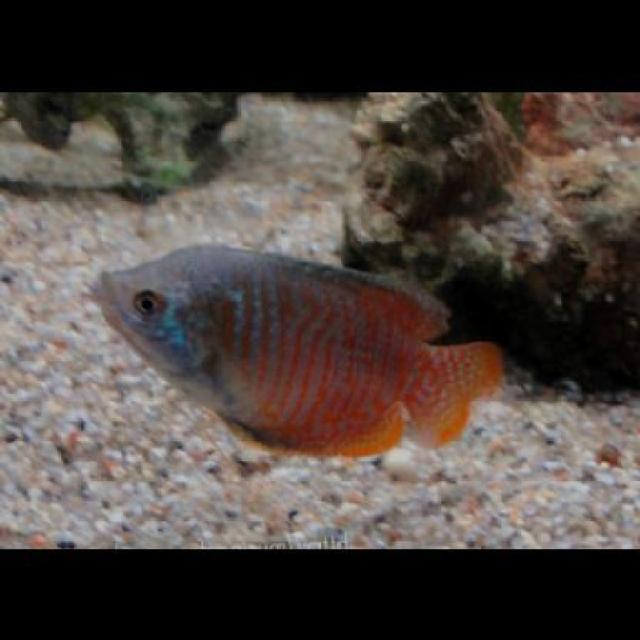Gourami: (91, 241, 506, 470)
